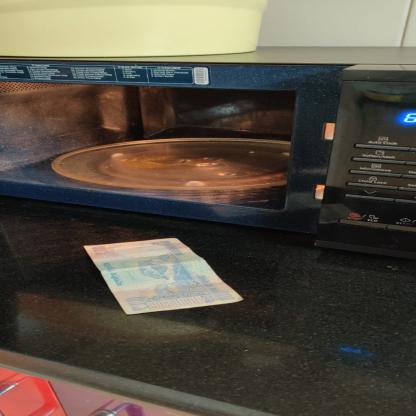Old100Back: (82, 237, 245, 316)
